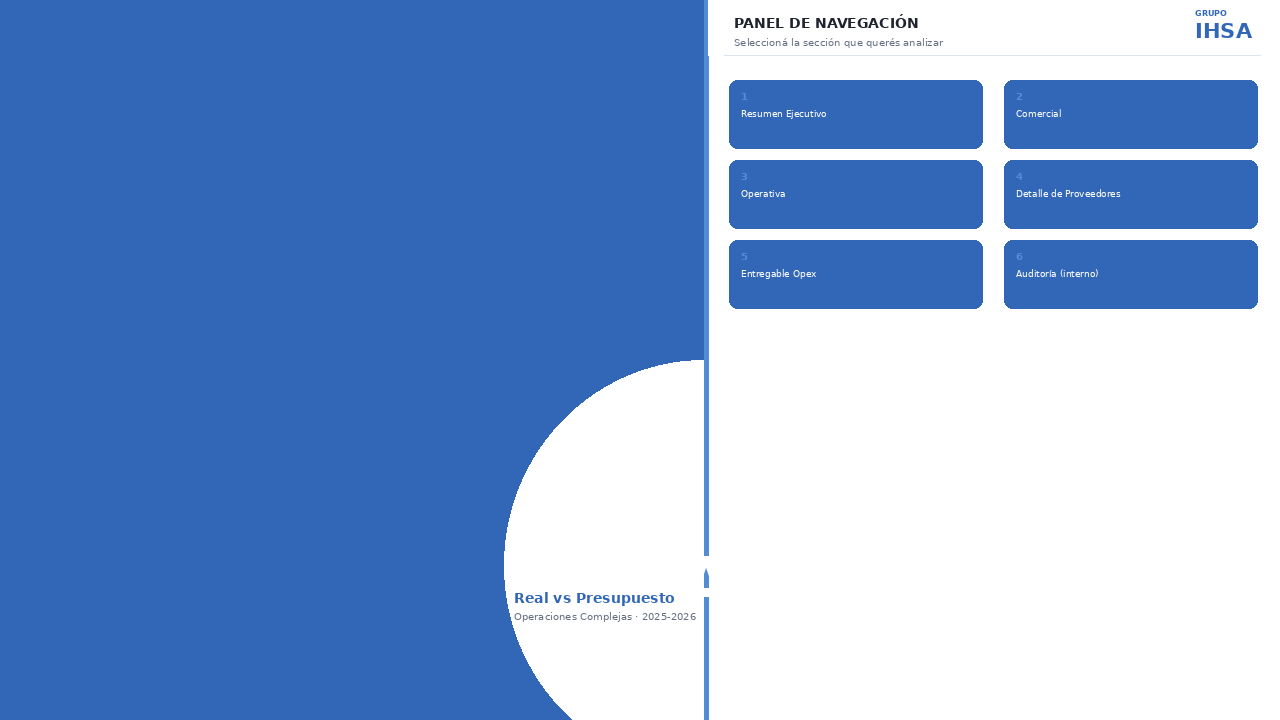

The dashboard page shown, as its layout file describes it:
{"tool":"powerbi","page":{"name":"0. Índice","canvas":[1280,720],"ordinal":0},"visuals":[{"type":"pageNavigator","box":[544,64,736,640],"z":0},{"type":"image","box":[0,240,496,480],"z":1000}]}

Visuals, with their boxes in screenshot pixels (x1, y1, x2, y2), scaled from the page's 1280x720 canvas onto the 1280x720 screenshot:
pageNavigator: <box>544,64,1279,704</box>
image: <box>0,240,496,719</box>
